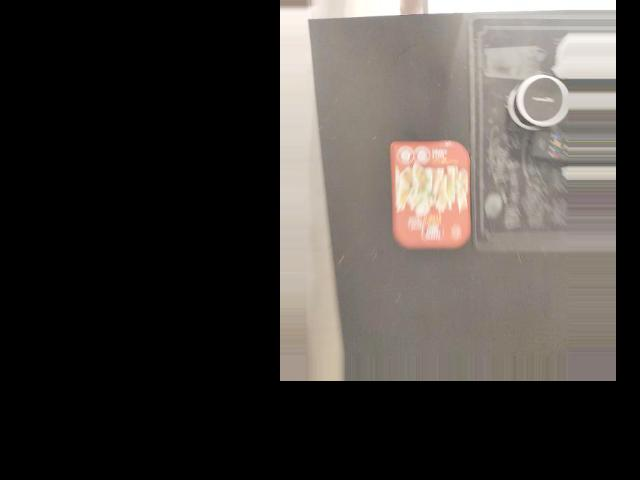cheese: (388, 138, 474, 249)
